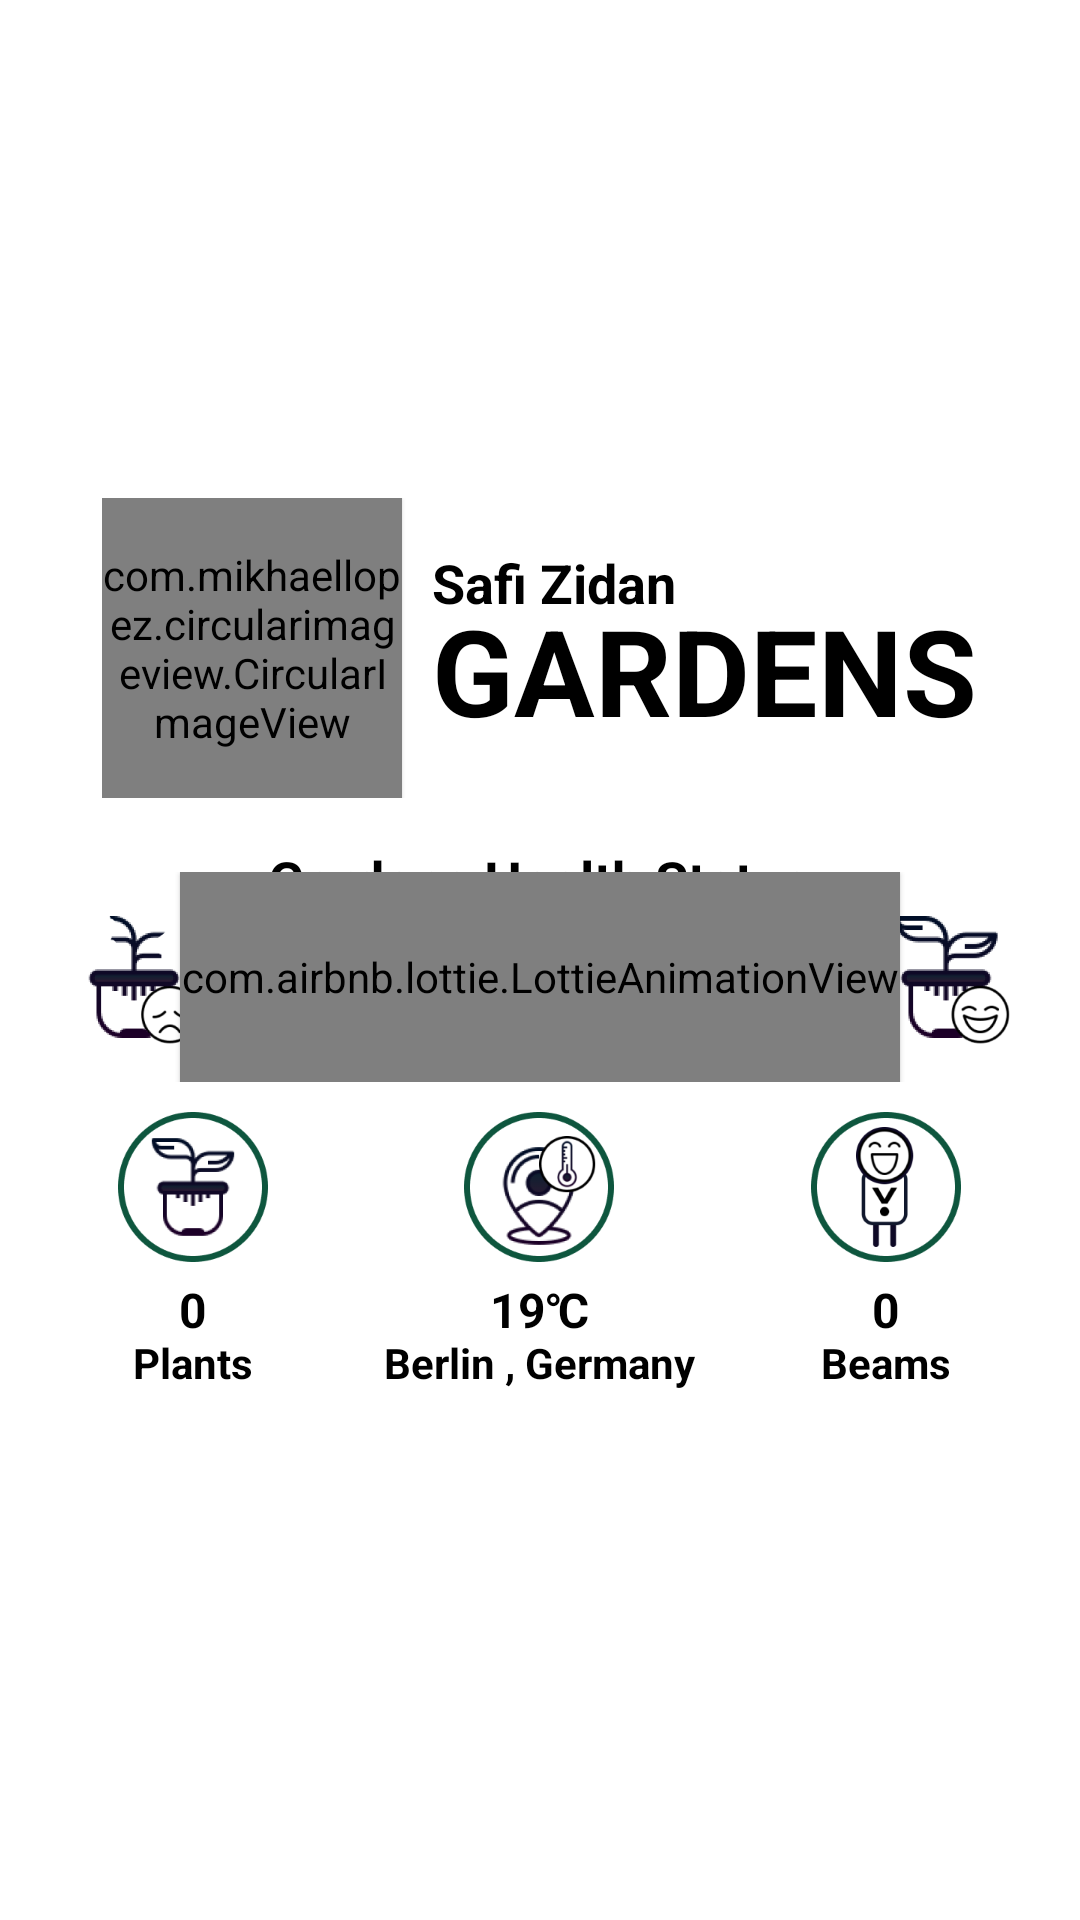

Named icons in this screenshot (1080 × 1920) and their centers, point (x, y):
plant count profile: point (193, 1187)
plant happy: point (940, 977)
